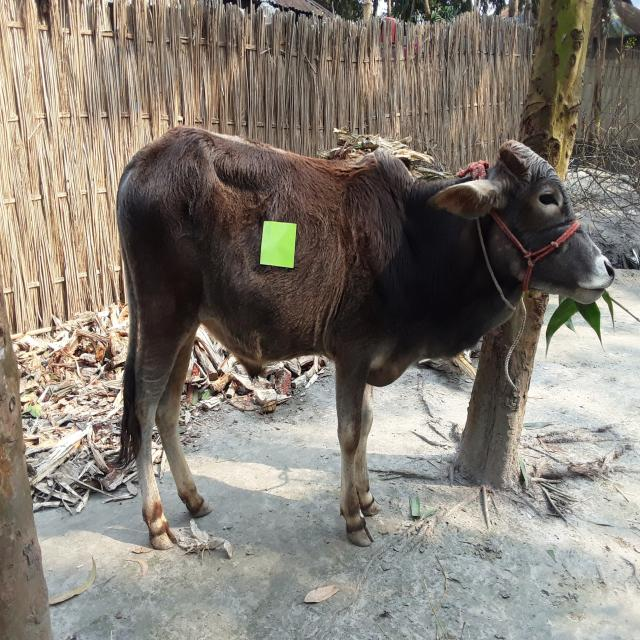badan_sapi: (143, 147, 383, 358)
sapi: (110, 122, 620, 566)
